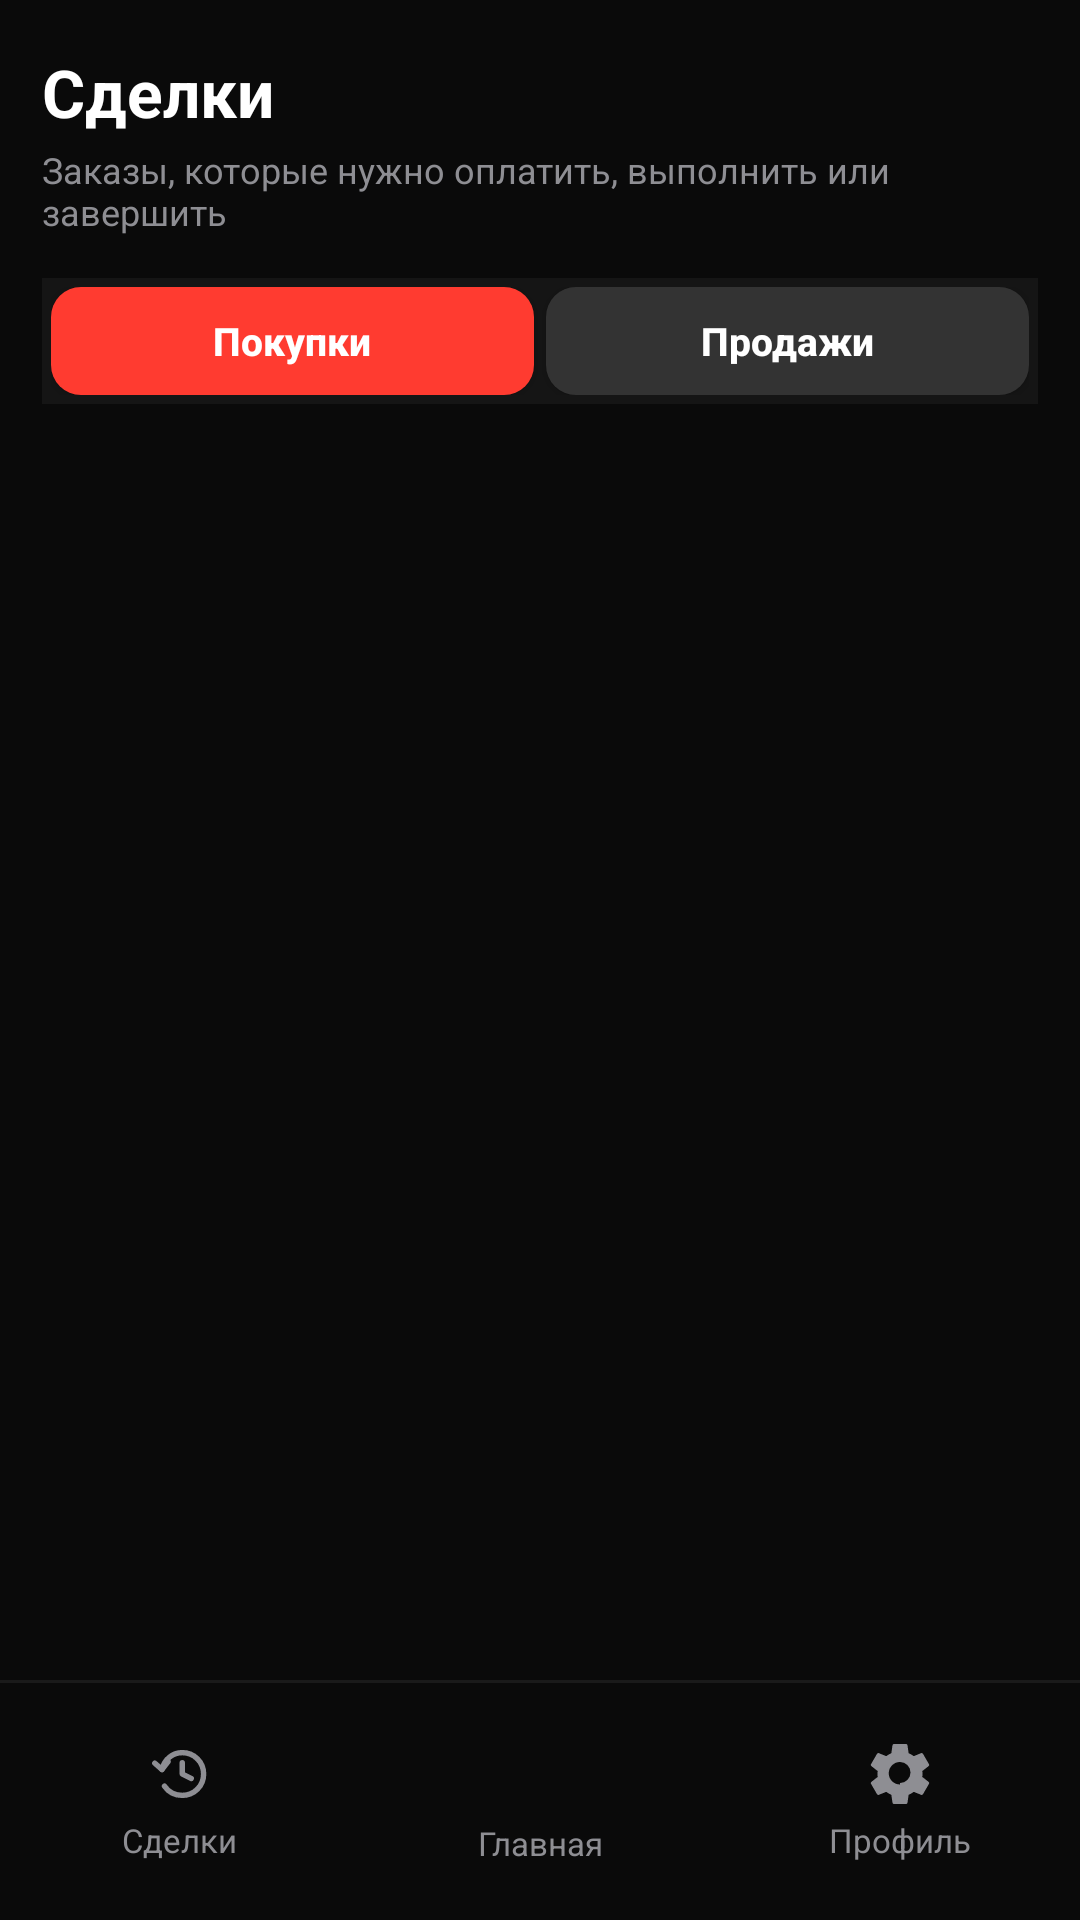

Where to tap for icons on this 1080×1920 app screen, as point (x, y):
settings: point (900, 1774)
settings history: point (179, 1774)
